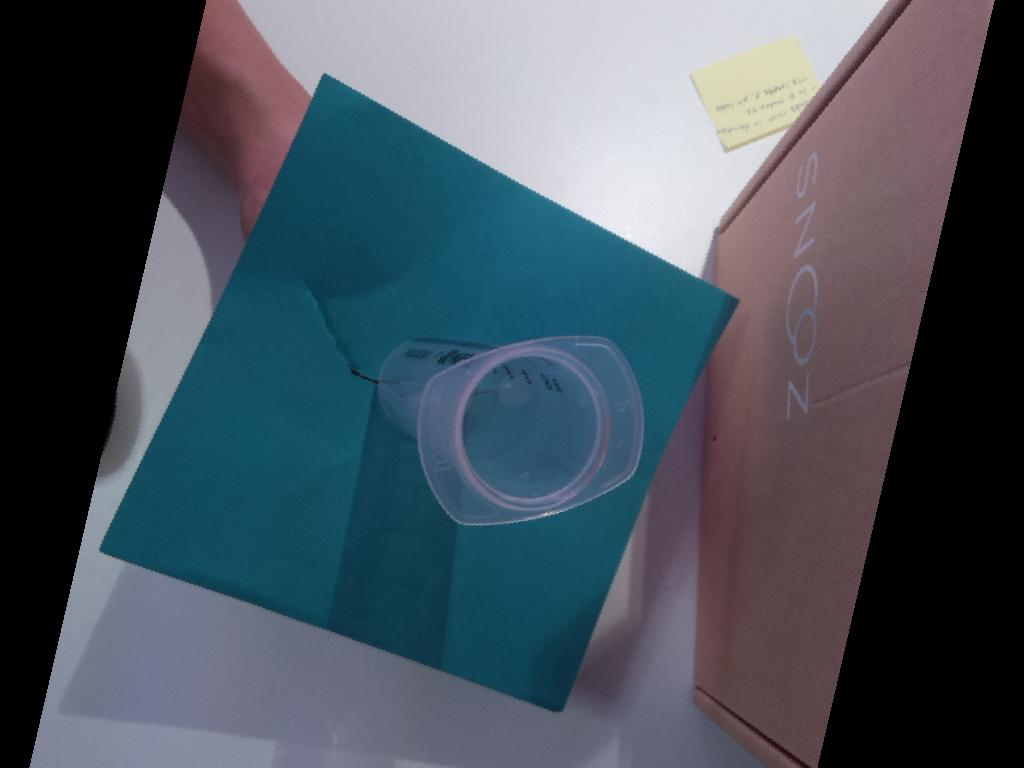clean: (418, 333, 642, 526)
